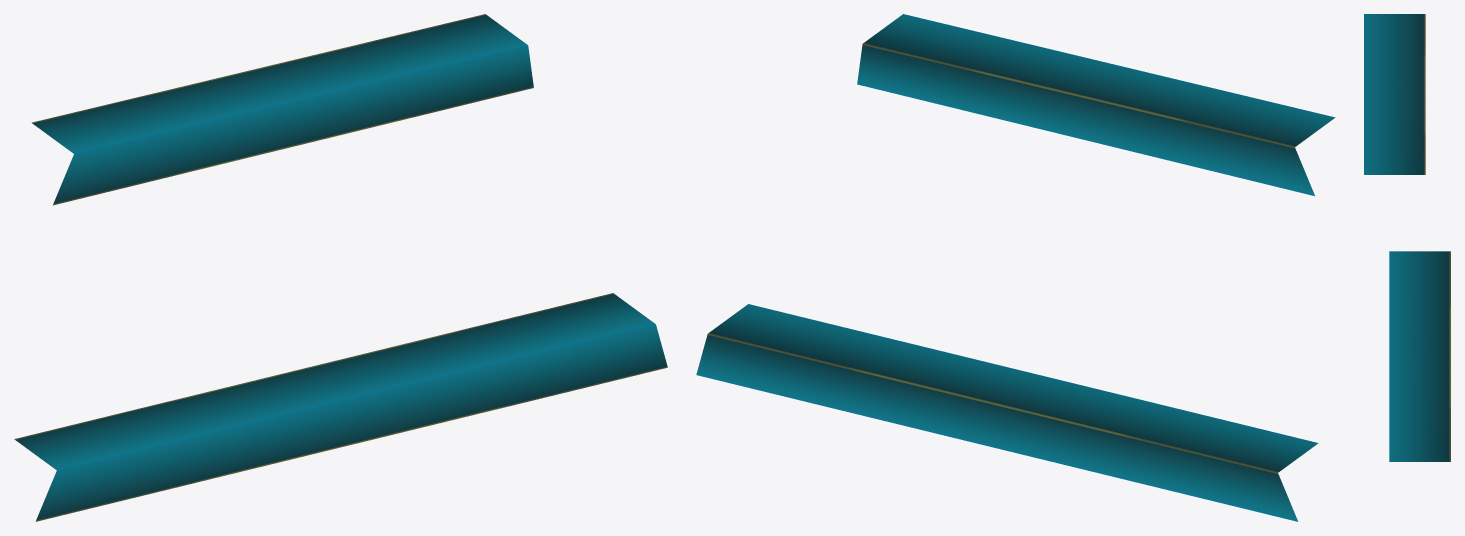
The picture shows the model from 3 angles, left to right: view 1: azimuth 30°, elevation 25°; view 2: azimuth 150°, elevation 25°; view 3: azimuth 270°, elevation 25°; orthographic projection. The views are drawn at different scales.
Parts seen in each view (by area): view 1: Box23; view 2: Box23; view 3: Box23.
Part boxes in pixels (<box>): Box23: <box>14,14,667,521</box>; Box23: <box>696,14,1335,521</box>; Box23: <box>1364,14,1450,461</box>.
Bounding box in the file's own units: 231 × 138 × 38.06.
1 material, 1 textured.
